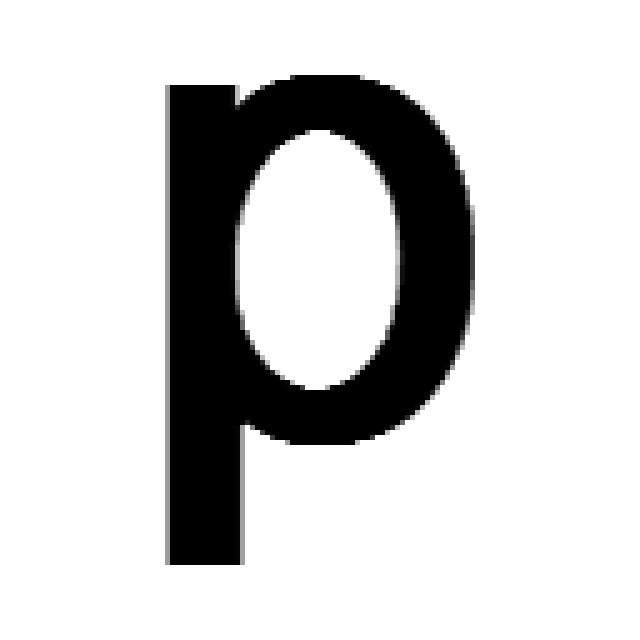P: (165, 75, 475, 570)
